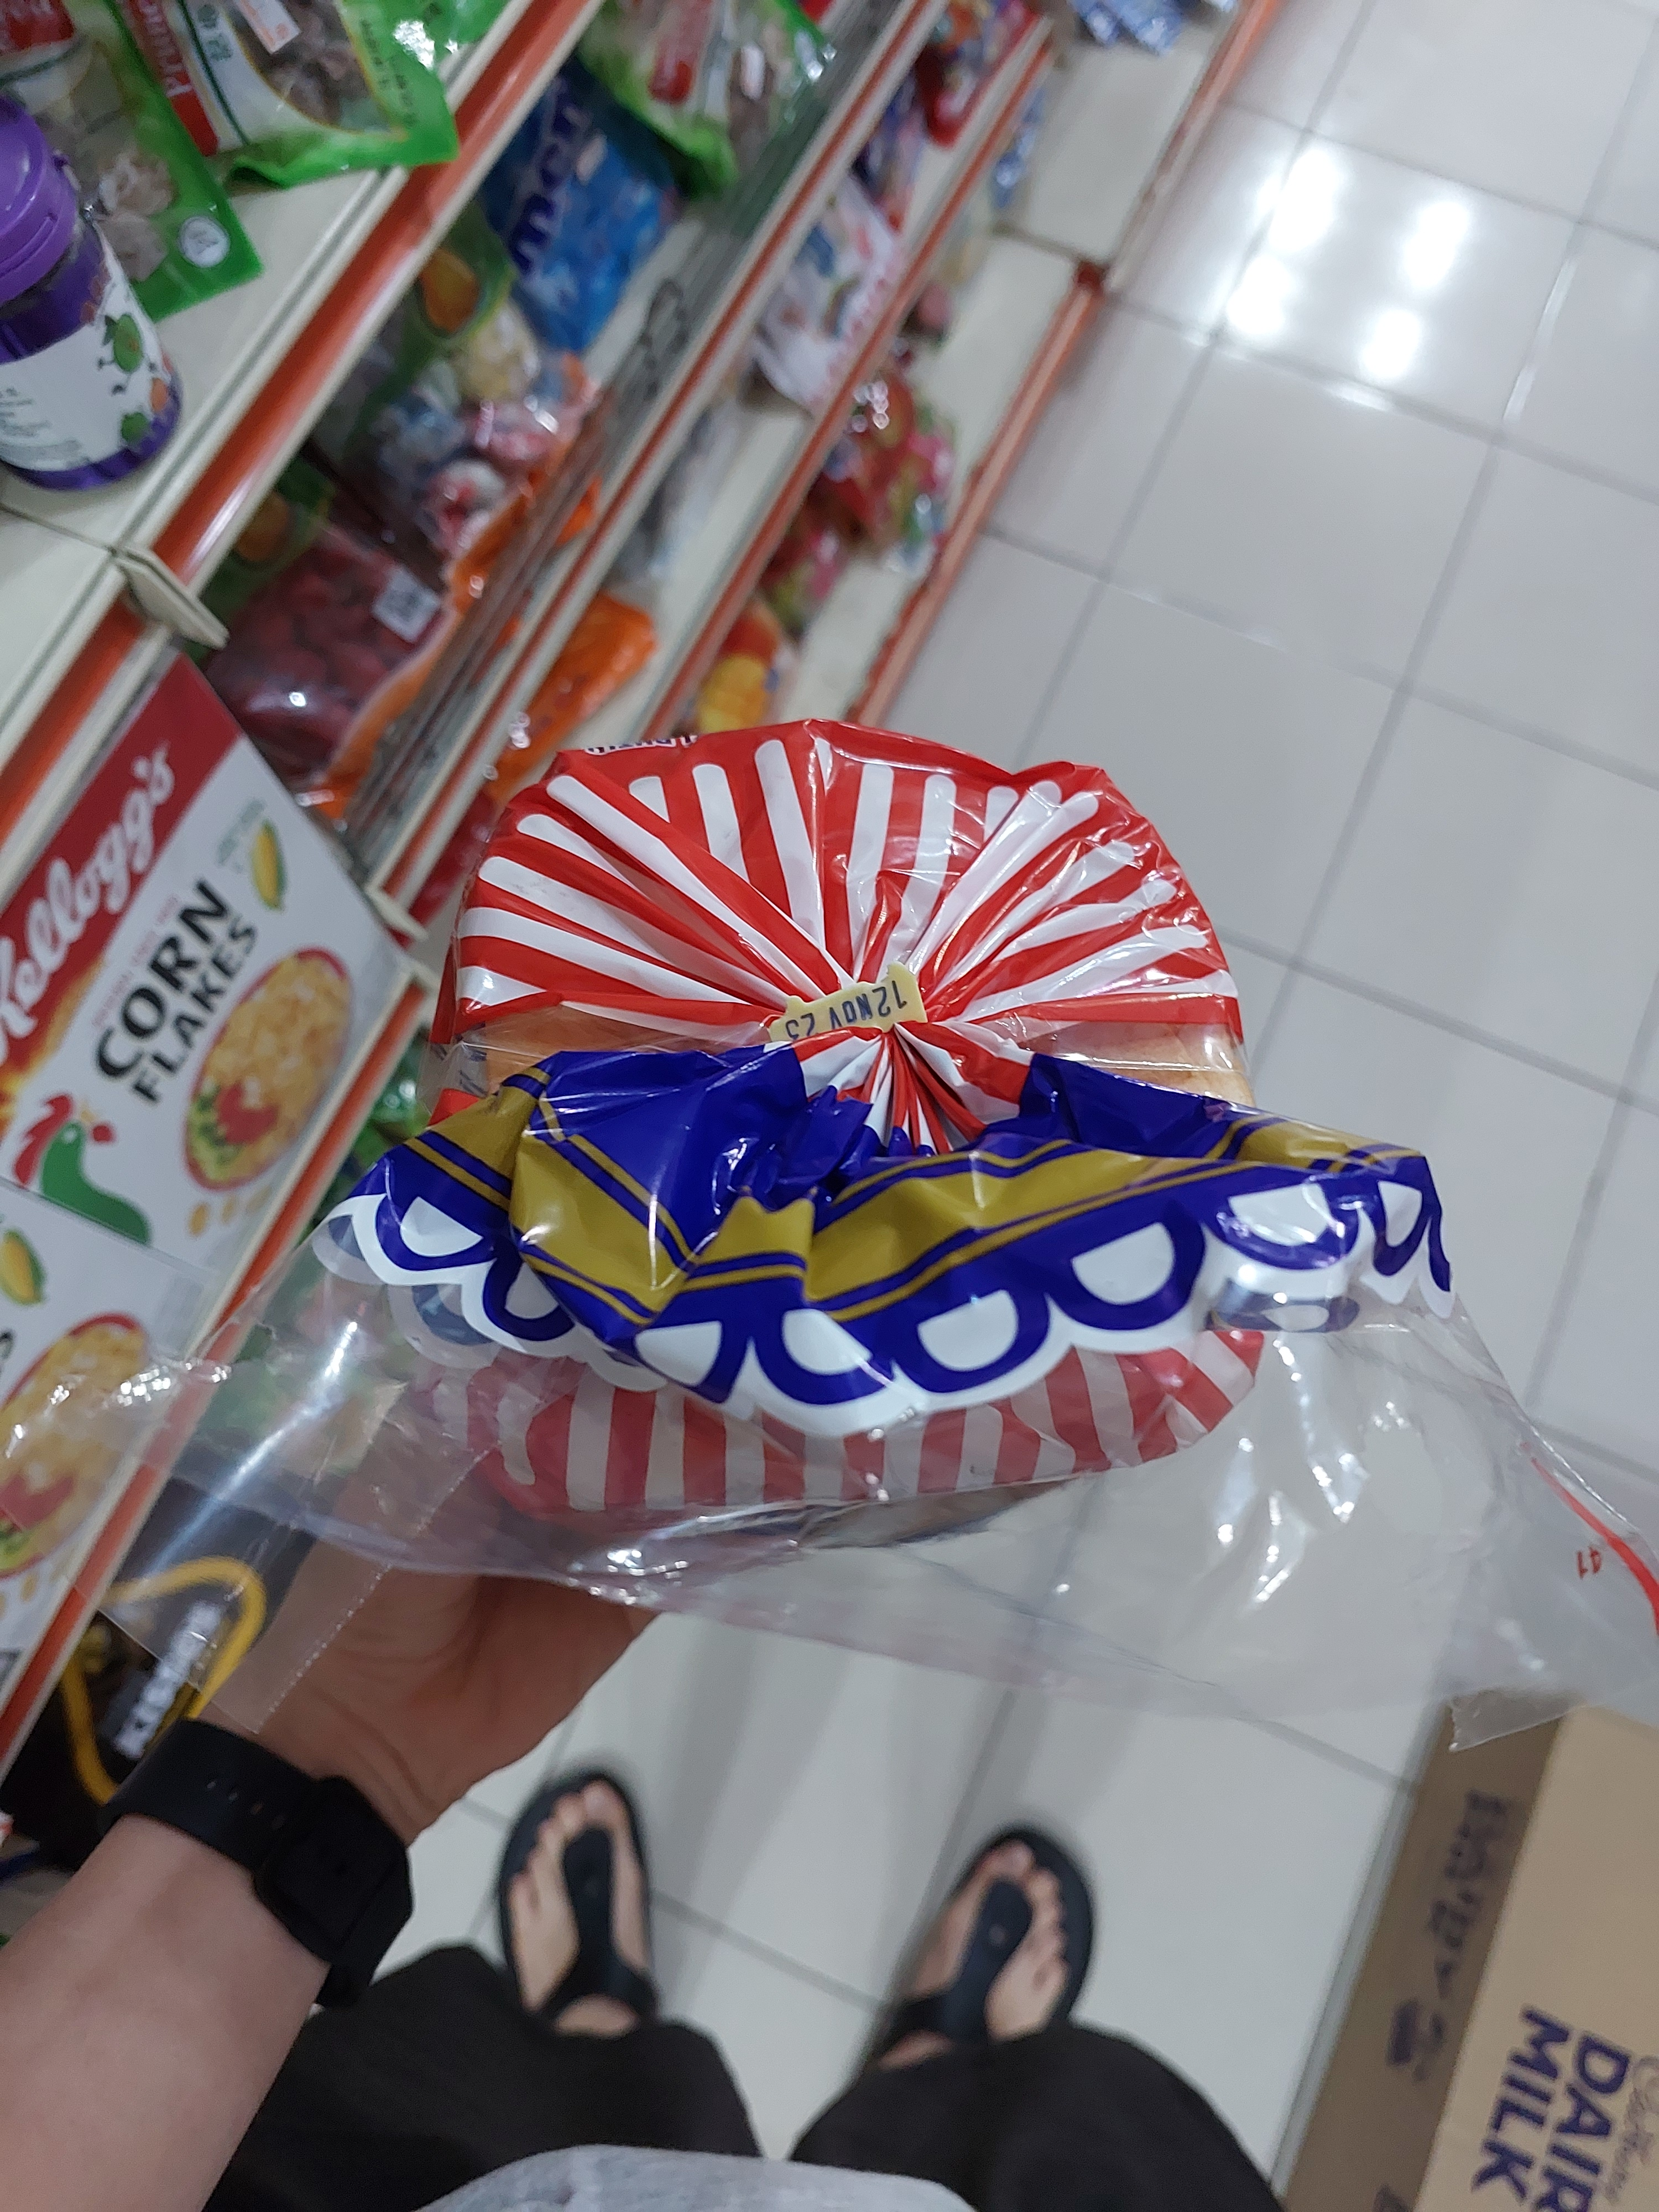bread: (343, 721, 1295, 1550)
